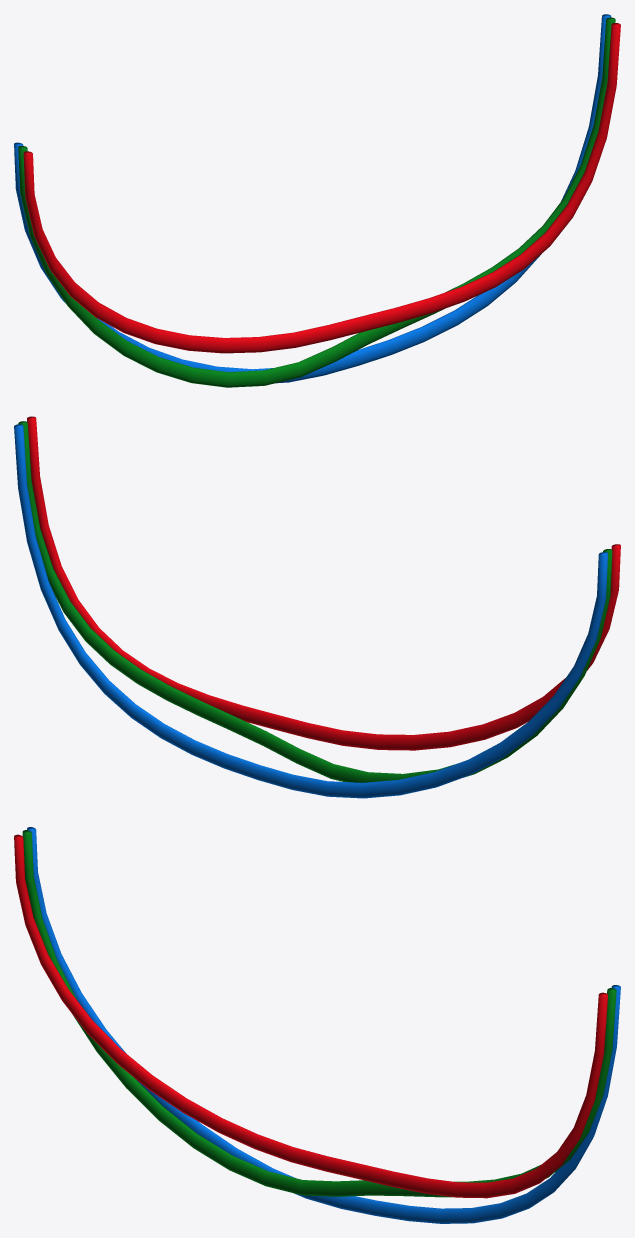
The model's file is cable U.glb.
3 views of the same model, one above another, from view 1: azimuth 30°, elevation 25°; view 2: azimuth 150°, elevation 25°; view 3: azimuth 330°, elevation 25° (orthographic).
Parts seen in each view (by area): view 1: BézierCurve.003; view 2: BézierCurve.003; view 3: BézierCurve.003.
Boxes of the visible parts, left/top/right/bottom form: BézierCurve.003: left=14, top=14, right=620, bottom=387; BézierCurve.003: left=14, top=416, right=620, bottom=798; BézierCurve.003: left=14, top=827, right=620, bottom=1223.
Bounding box in the file's own units: 4.38 × 2.17 × 0.2567.
